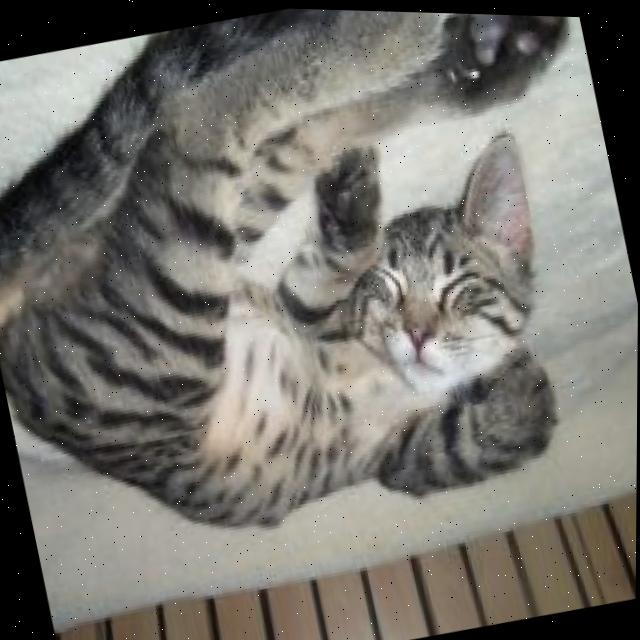Egyptian Mau: (0, 0, 640, 594)
